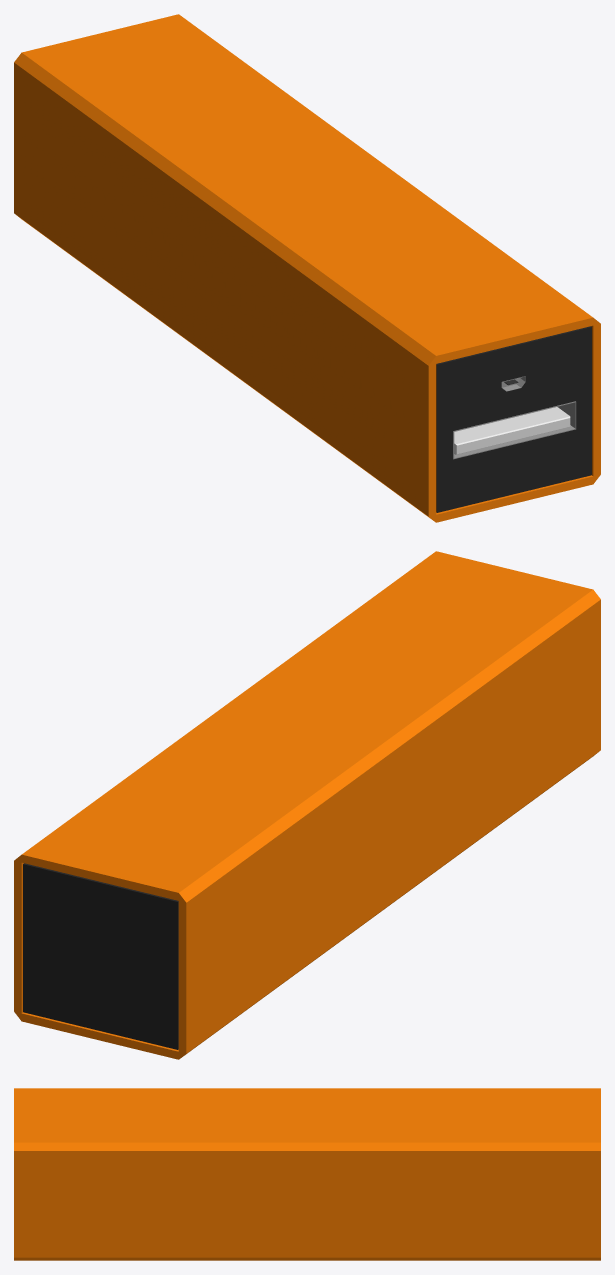
3 views of the same model, one above another, from view 1: azimuth 30°, elevation 25°; view 2: azimuth 150°, elevation 25°; view 3: azimuth 270°, elevation 25° (orthographic). The views are drawn at different scales.
Bounding box in the file's own units: 2.35 × 2.17 × 9.78.
Materials: 1 (1 with a texture image).
